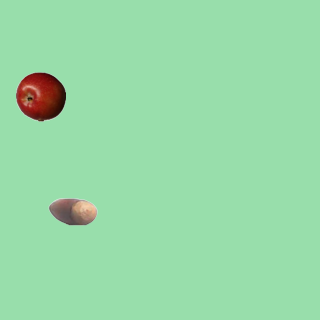Apple Braeburn: (15, 71, 65, 121)
Hazelnut: (47, 186, 97, 236)
